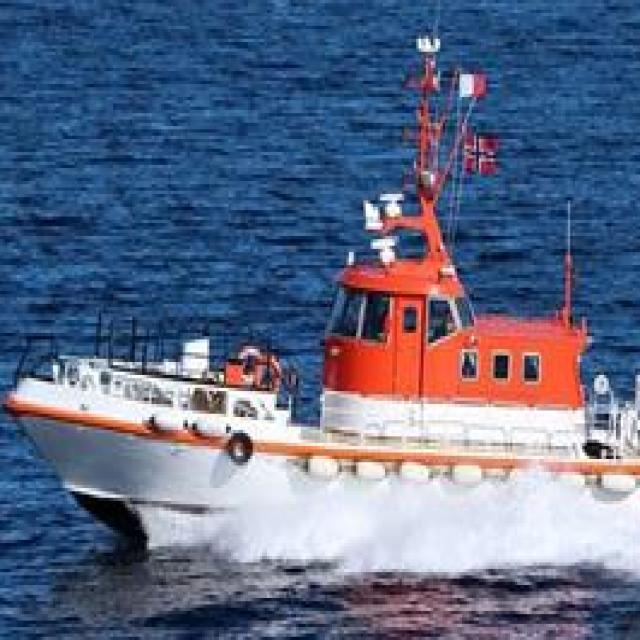houseboat: (5, 49, 640, 546)
